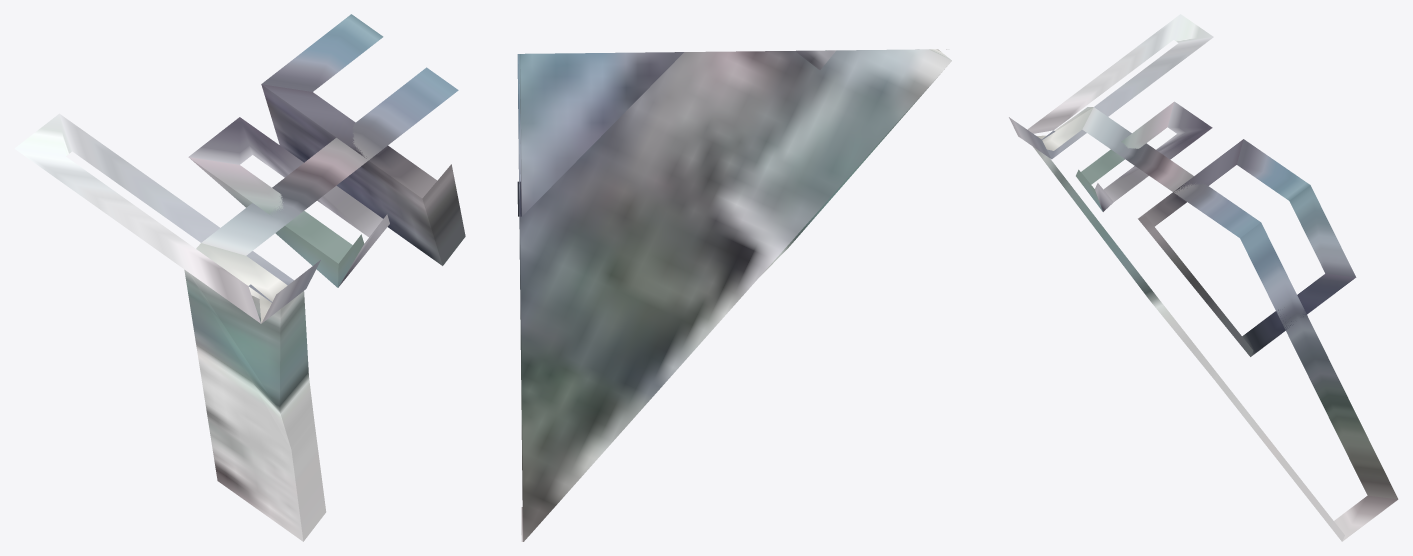
The picture shows the model from 3 angles, left to right: view 1: azimuth 30°, elevation 25°; view 2: azimuth 150°, elevation 25°; view 3: azimuth 270°, elevation 25°; orthographic projection. The views are drawn at different scales.
Bounding box in the file's own units: 6.69 × 7.34 × 6.6.
1 material, 1 textured.
